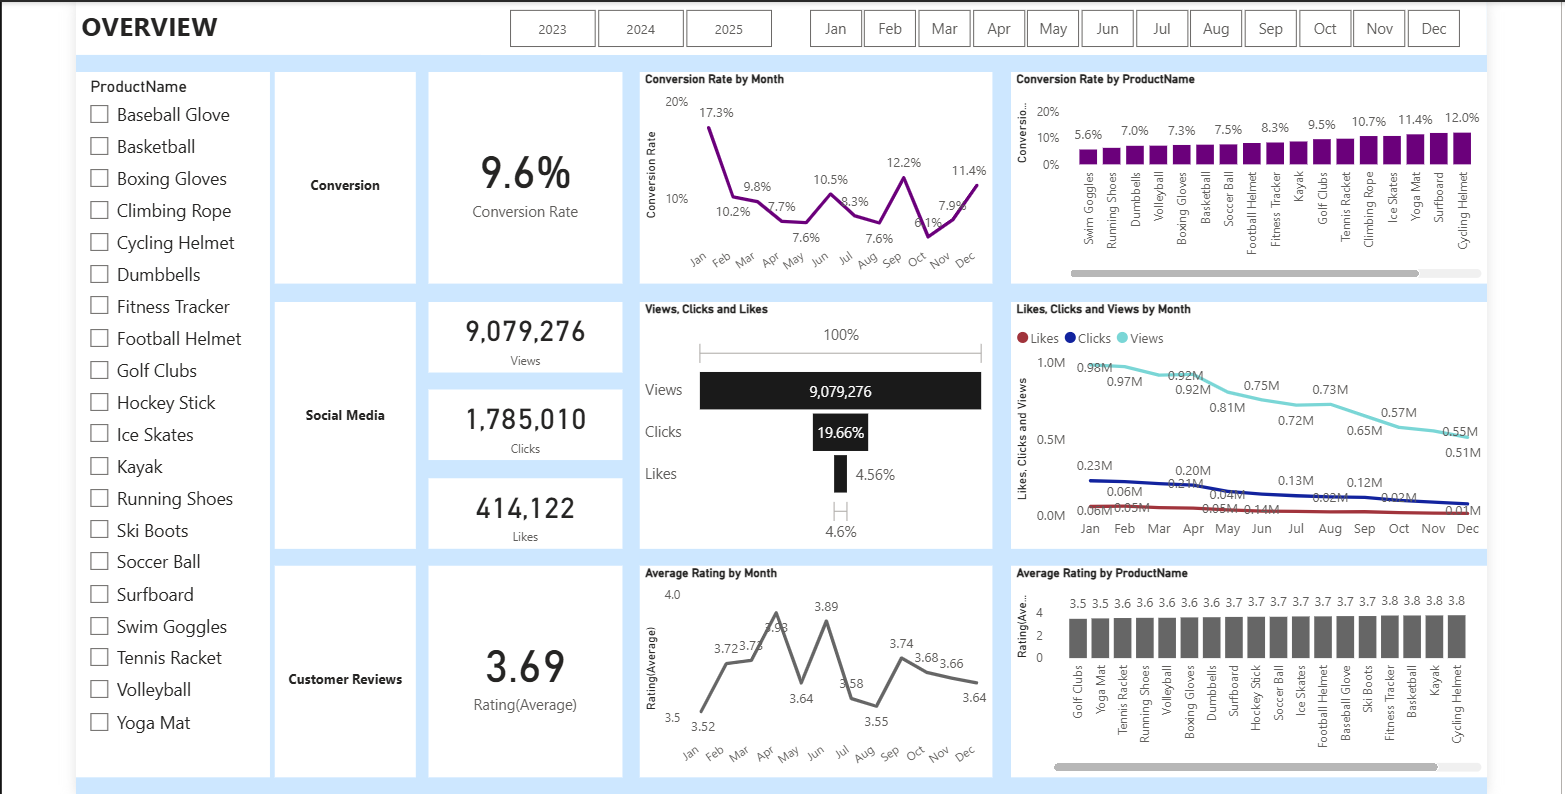

The dashboard page shown, as its layout file describes it:
{"tool":"powerbi","page":{"name":"OVERVIEW","canvas":[1280,720],"ordinal":0},"visuals":[{"type":"textbox","box":[0,0,1280,48],"z":0},{"type":"slicer","fields":{"Values":["dim_products.ProductName"]},"box":[0,64,176,640],"z":1000},{"type":"textbox","box":[180,64,128,192],"z":2000},{"type":"textbox","box":[180,272,128,224],"z":3000},{"type":"textbox","box":[180,512,128,192],"z":4000},{"type":"card","fields":{"Values":["Calculations.Conversion Rate"]},"box":[320,64,176,192],"z":5000},{"type":"card","fields":{"Values":["Calculations.Views"]},"box":[320,272,176,64],"z":6000},{"type":"card","fields":{"Values":["Calculations.Clicks"]},"box":[320,352,176,64],"z":7000},{"type":"card","fields":{"Values":["Calculations.Likes"]},"box":[320,432,176,64],"z":8000},{"type":"card","fields":{"Values":["Calculations.Rating(Average)"]},"box":[320,512,176,192],"z":9000},{"type":"slicer","fields":{"Values":["Calender.Year"]},"box":[368,0,288,48],"z":10000},{"type":"slicer","fields":{"Values":["Calender.MonthNameShort"]},"box":[640,0,640,48],"z":11000},{"type":"lineChart","title":"Conversion Rate by Month","fields":{"Category":["Calender.MonthNameShort"],"Y":["Calculations.Conversion Rate"]},"box":[512,64,320,192],"z":12000},{"type":"columnChart","fields":{"Y":["Calculations.Conversion Rate"],"Category":["dim_products.ProductName"]},"box":[848,64,432,192],"z":13000},{"type":"lineChart","title":"Likes, Clicks and Views by Month","fields":{"Category":["Calender.MonthNameShort"],"Y":["Calculations.Likes","Calculations.Clicks","Calculations.Views"]},"box":[848,272,432,224],"z":14000},{"type":"funnel","fields":{"Y":["Calculations.Views","Calculations.Clicks","Calculations.Likes"]},"box":[512,272,320,224],"z":15000},{"type":"lineChart","title":"Average Rating by Month","fields":{"Category":["Calender.MonthNameShort"],"Y":["Calculations.Rating(Average)"]},"box":[512,512,320,192],"z":16000},{"type":"columnChart","title":"Average Rating by ProductName","fields":{"Category":["dim_products.ProductName"],"Y":["Calculations.Rating(Average)"]},"box":[848,512,432,192],"z":17000}]}

Visuals, with their boxes on the page's 1280x720 design canvas (x1, y1, x2, y2). These are canvas units, not pixel positions in the 1565x794 screenshot, which may show the page scaled, cropped or inside an application window:
textbox: rect(0, 0, 1280, 48)
slicer - dim_products.ProductName: rect(0, 64, 176, 704)
textbox: rect(180, 64, 308, 256)
textbox: rect(180, 272, 308, 496)
textbox: rect(180, 512, 308, 704)
card - Calculations.Conversion Rate: rect(320, 64, 496, 256)
card - Calculations.Views: rect(320, 272, 496, 336)
card - Calculations.Clicks: rect(320, 352, 496, 416)
card - Calculations.Likes: rect(320, 432, 496, 496)
card - Calculations.Rating(Average): rect(320, 512, 496, 704)
slicer - Calender.Year: rect(368, 0, 656, 48)
slicer - Calender.MonthNameShort: rect(640, 0, 1280, 48)
"Conversion Rate by Month" lineChart: rect(512, 64, 832, 256)
columnChart - Calculations.Conversion Rate x dim_products.ProductName: rect(848, 64, 1280, 256)
"Likes, Clicks and Views by Month" lineChart: rect(848, 272, 1280, 496)
funnel - Calculations.Views x Calculations.Clicks: rect(512, 272, 832, 496)
"Average Rating by Month" lineChart: rect(512, 512, 832, 704)
"Average Rating by ProductName" columnChart: rect(848, 512, 1280, 704)
